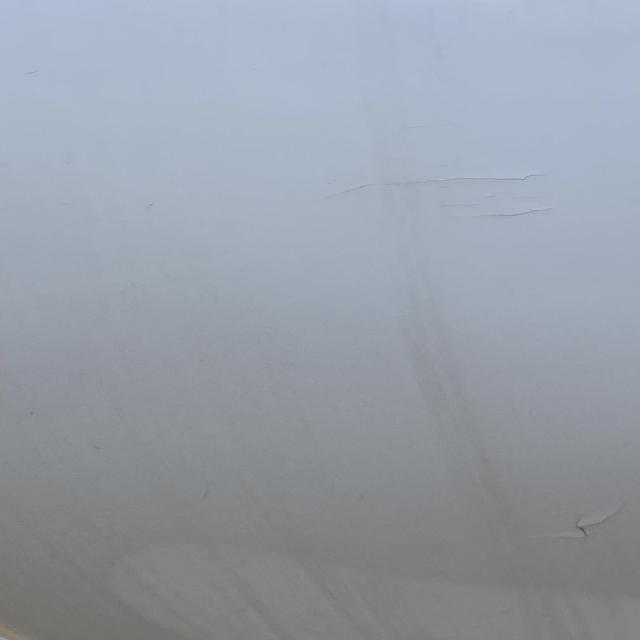Paint-off: (532, 500, 620, 543)
Scratch: (324, 172, 576, 218)
